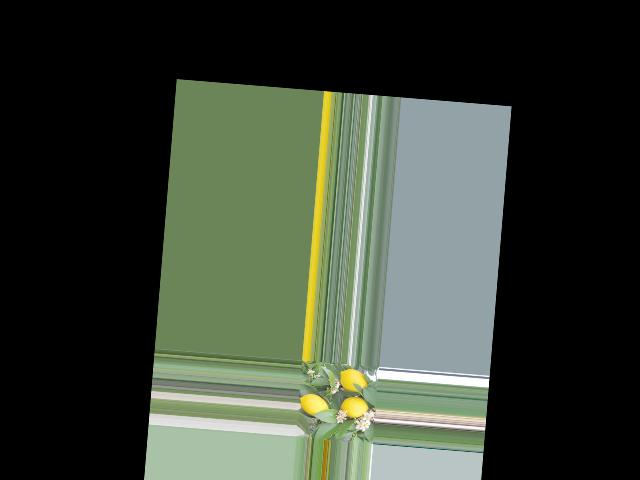lemon: (299, 391, 333, 421)
